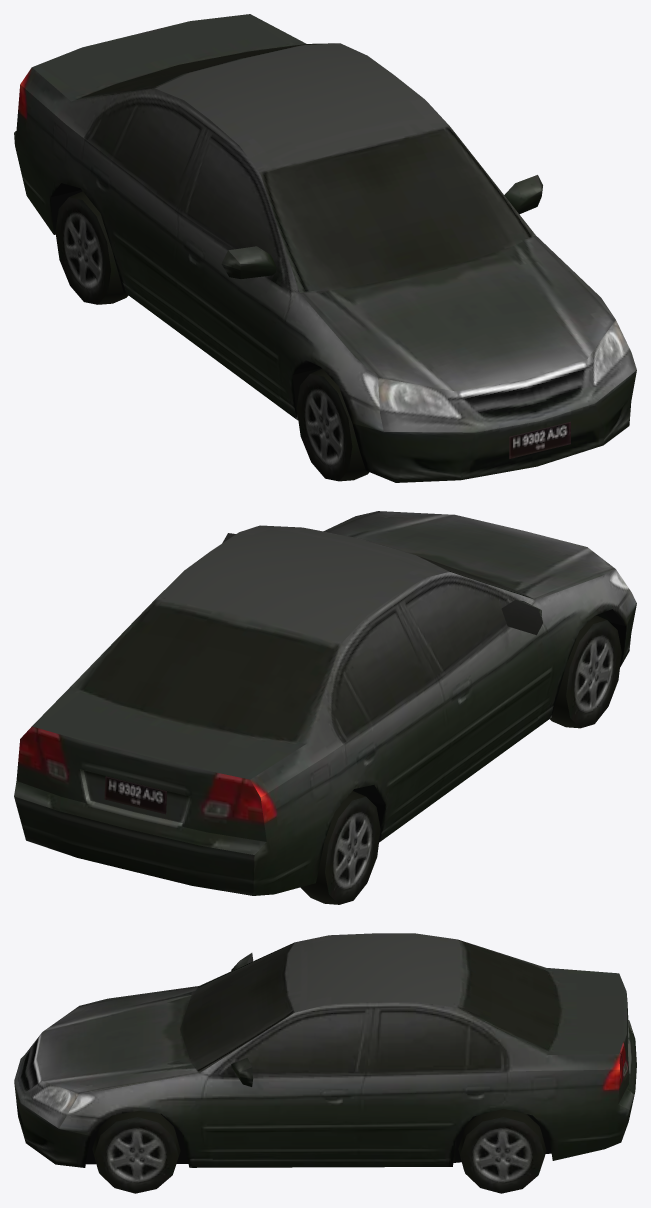
Rendered from t_sedan.glb.
3 renders of one model, top to bottom at view 1: azimuth 30°, elevation 25°; view 2: azimuth 150°, elevation 25°; view 3: azimuth 270°, elevation 25°, orthographic. The views are drawn at different scales.
Parts seen in each view (by area): view 1: body.cvc_Material.004_0; view 2: body.cvc_Material.004_0; view 3: body.cvc_Material.004_0.
Part boxes in pixels (box(x1,y1,x2,y2)): body.cvc_Material.004_0: box(14, 14, 636, 482); body.cvc_Material.004_0: box(14, 511, 636, 904); body.cvc_Material.004_0: box(14, 933, 636, 1193).
Size of the model in its own units: 2 by 1.42 by 4.41.
Materials: 1 (1 with a texture image).
